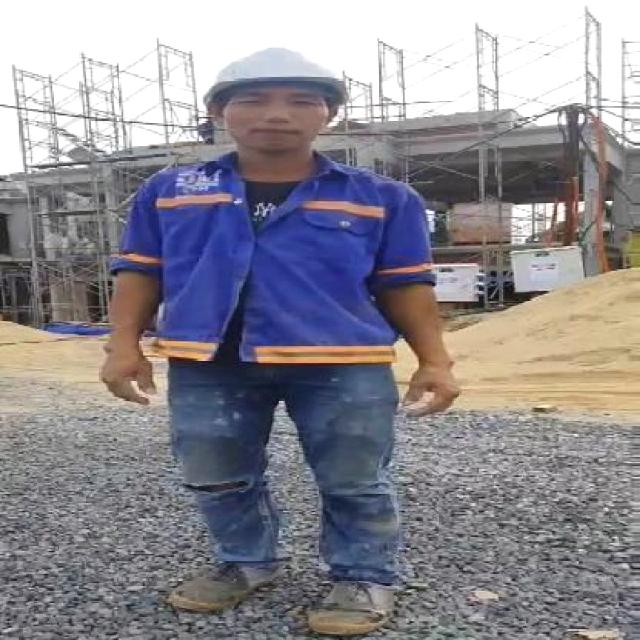face_nomask: (230, 88, 332, 144)
hand_noglove: (82, 336, 162, 410), (400, 355, 466, 423)
head_helmet: (195, 45, 354, 100)
person: (94, 42, 458, 638)
shoes: (300, 554, 414, 638), (160, 550, 294, 613)
